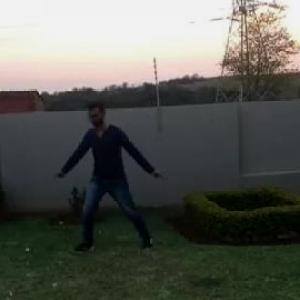land: (53, 90, 164, 254)
